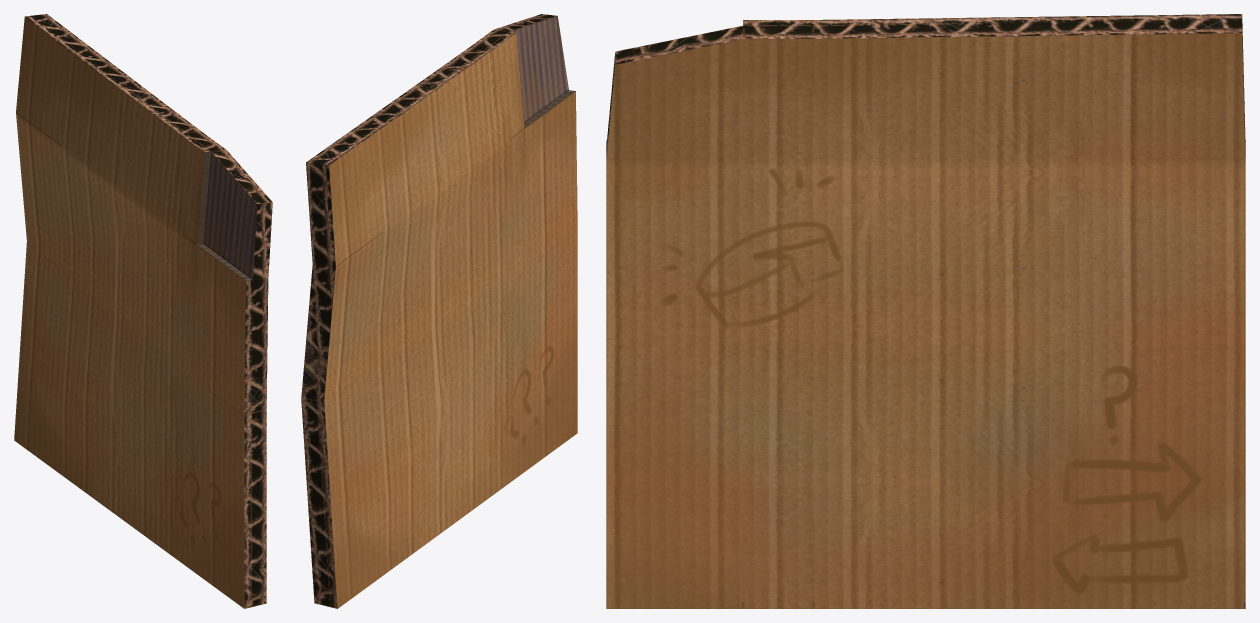
The model's file is Carton_1.fbx.
3 views of the same model, side by side, from view 1: azimuth 30°, elevation 25°; view 2: azimuth 150°, elevation 25°; view 3: azimuth 270°, elevation 25° (orthographic). The views are drawn at different scales.
Parts seen in each view (by area): view 1: Pared_1x1_0; view 2: Pared_1x1_0; view 3: Pared_1x1_0.
Part boxes in pixels (x1=…): Pared_1x1_0: x1=14, y1=14, x2=272, y2=608; Pared_1x1_0: x1=301, y1=14, x2=577, y2=608; Pared_1x1_0: x1=606, y1=14, x2=1245, y2=608.
Size of the model in its own units: 0.8755 by 10.12 by 10.
Materials: 1 (1 with a texture image).
